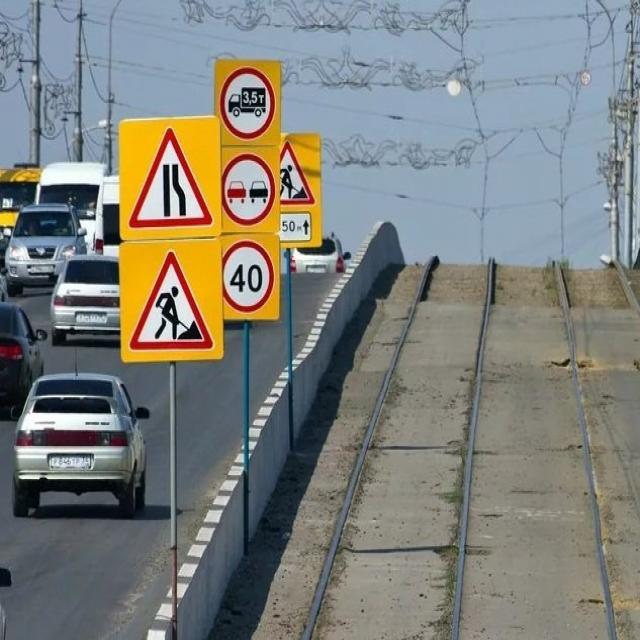no overtaking: (220, 150, 275, 232)
roadwork: (126, 245, 217, 362), (263, 138, 319, 212)
speed limit 40: (220, 236, 278, 314)
